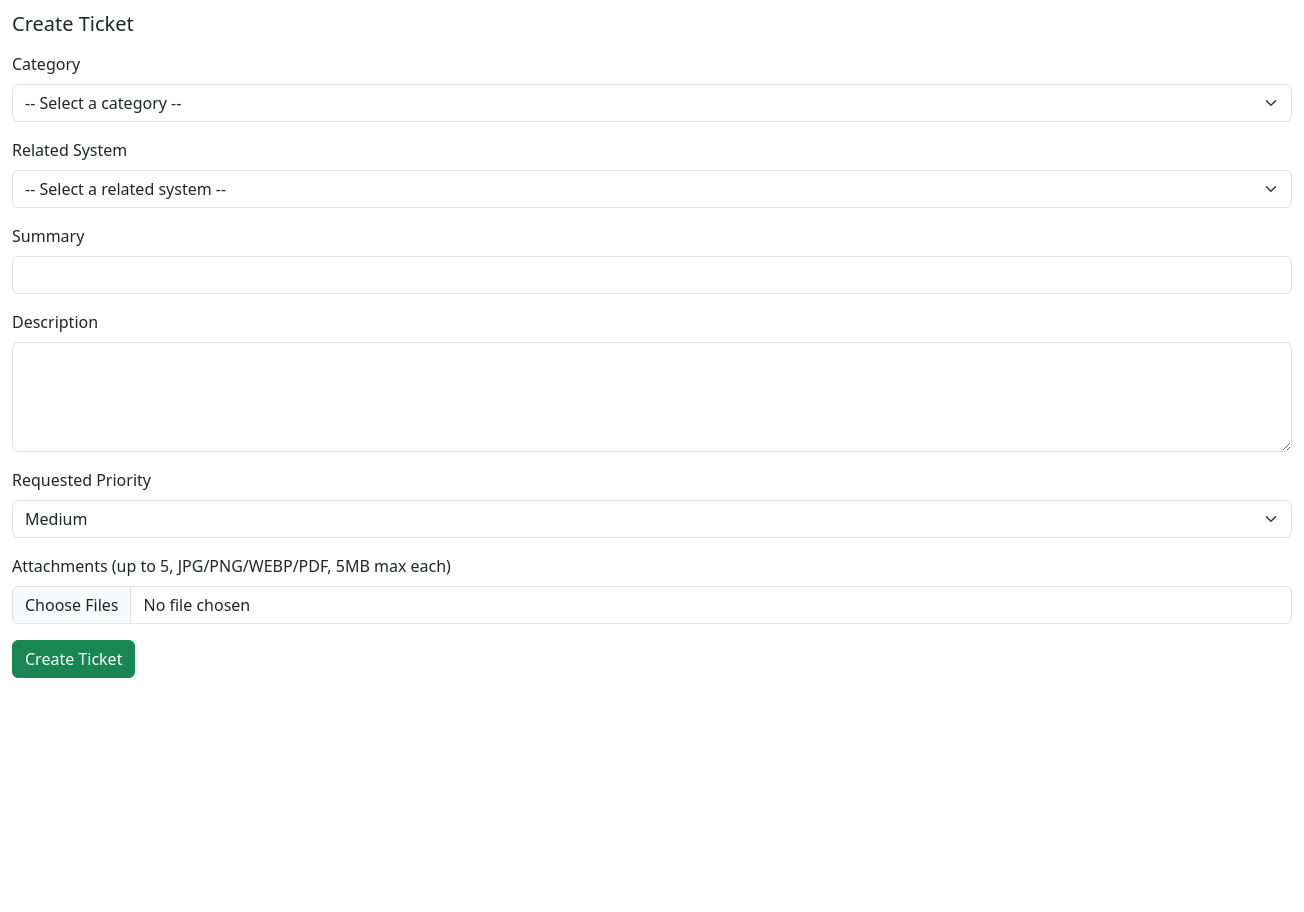
CreateTicket › shows a safe error message and keeps form values when the API is down
Select "Hardware" in the dropdown with test id "create-ticket-category". click: point(652, 103)
box: [12,84,1292,122]
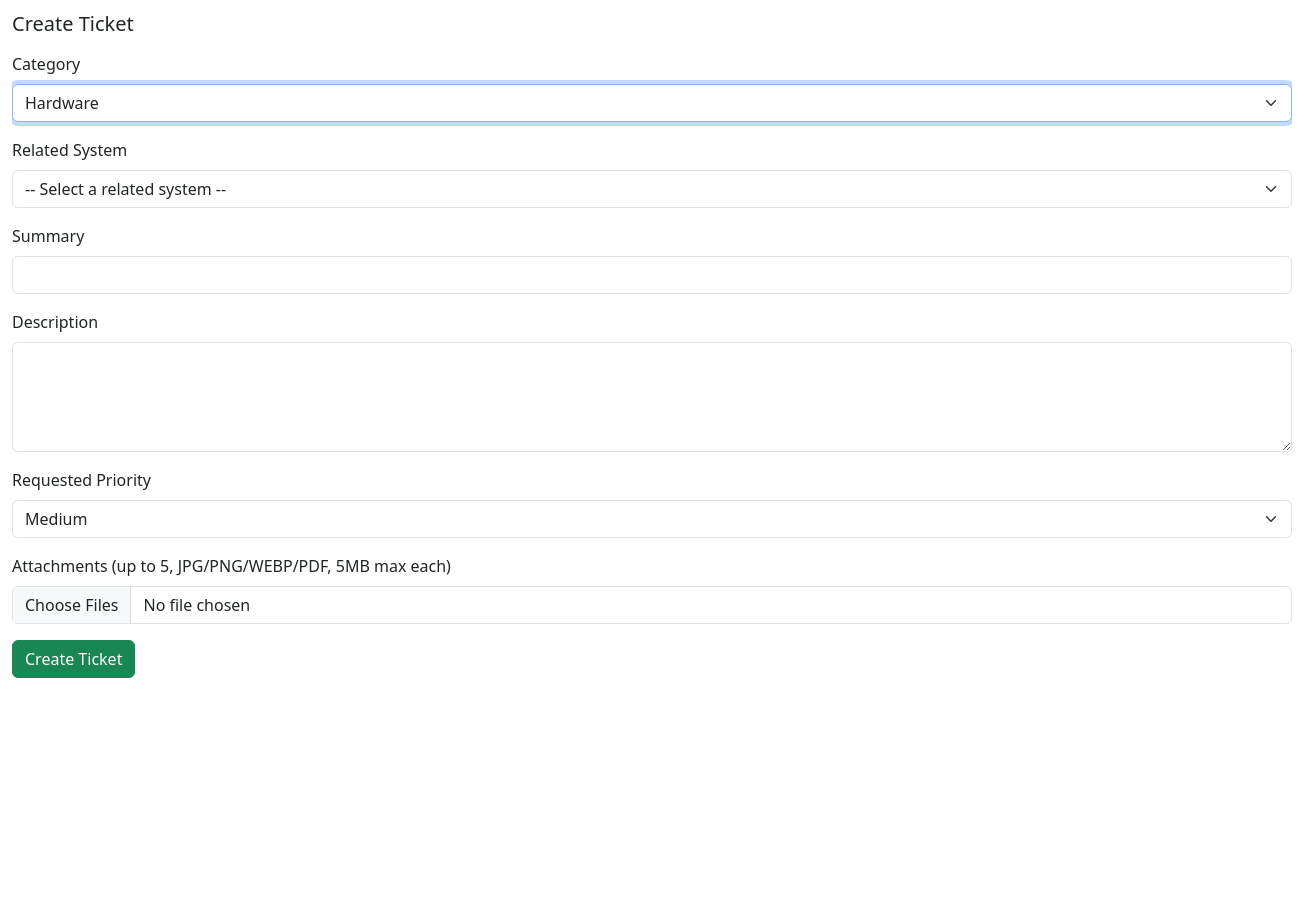
Select "Corporate Laptop" in the dropdown with test id "create-ticket-related-system". click: point(652, 189)
box: [12,170,1292,208]
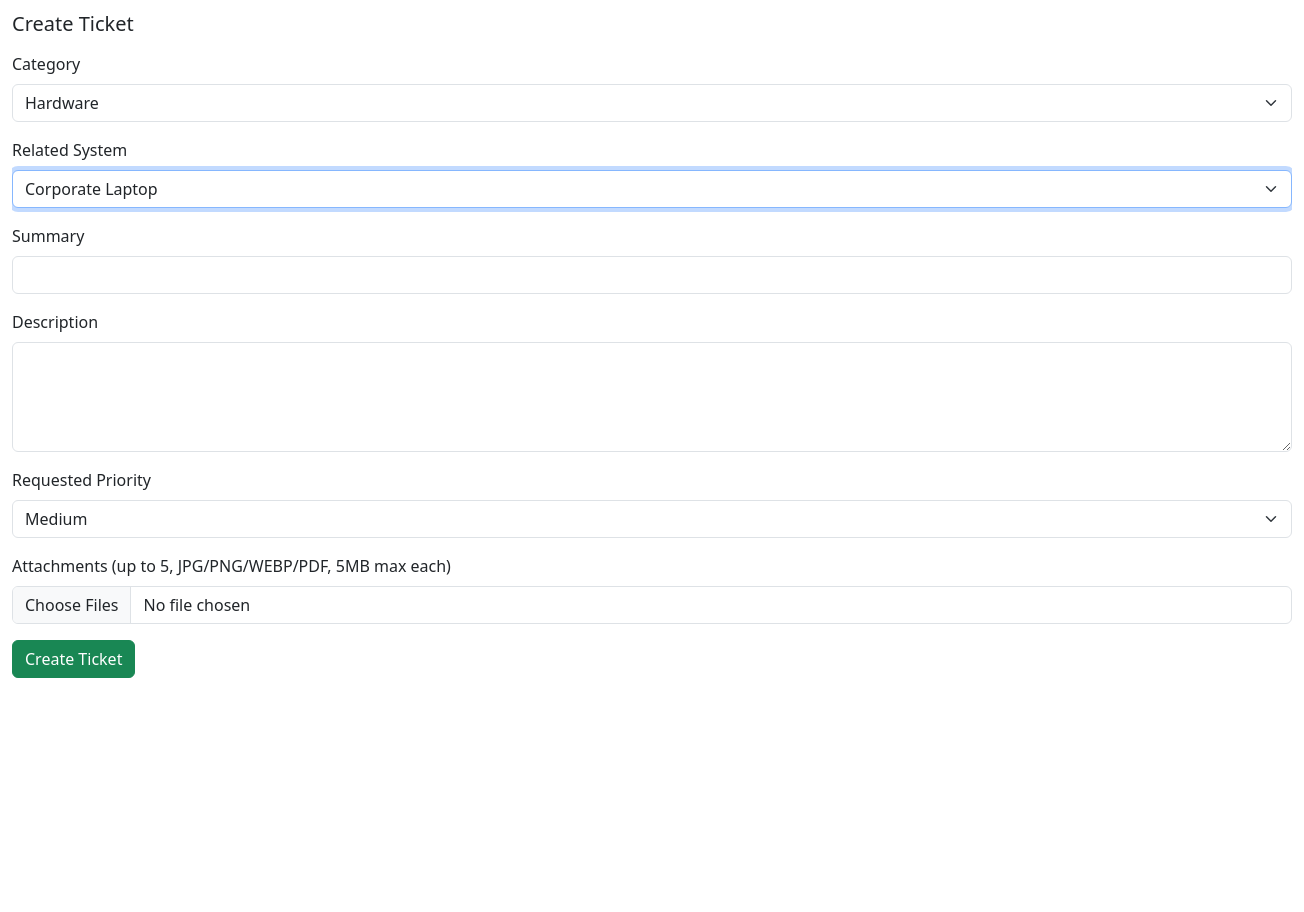
Type "Laptop won't turn on" into the field with test id "create-ticket-summary". click: point(652, 275)
box: [12,256,1292,294]
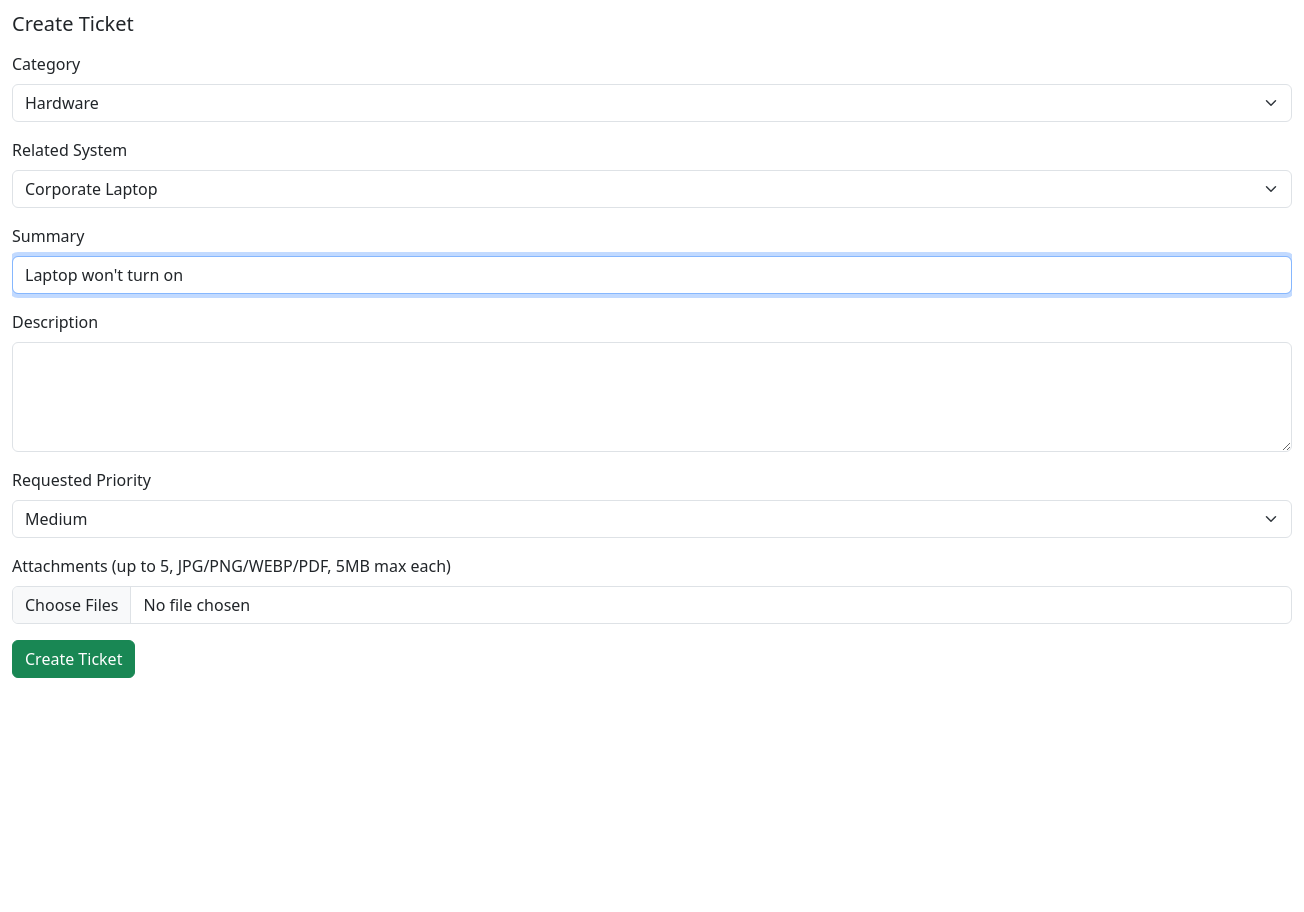
Type "A description long enough to pass validation." into the text box with test id "create-ticket-description". click: point(652, 397)
box: [12,342,1292,452]
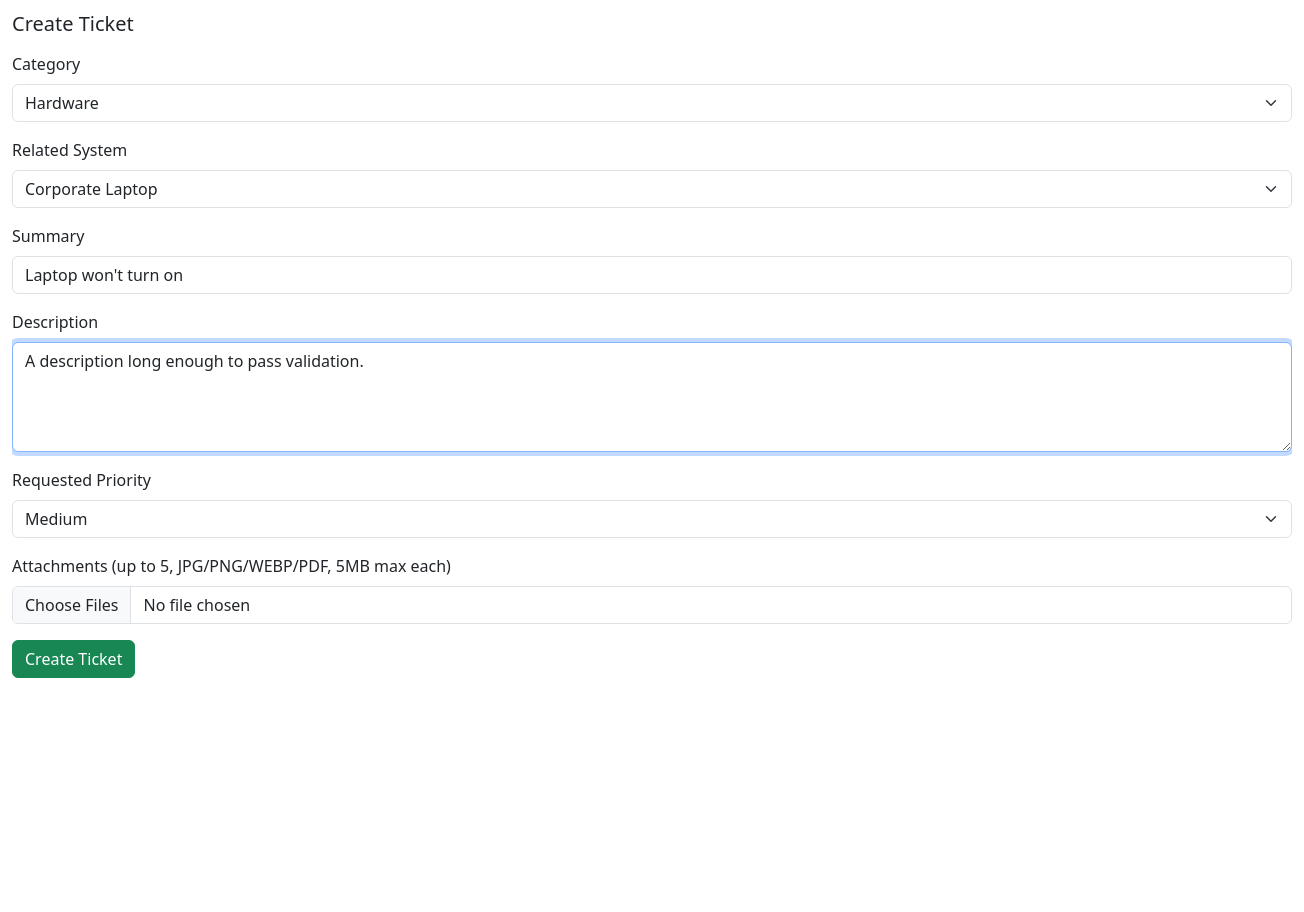
Click the button with test id "create-ticket-submit". click: point(74, 659)
box: [12,640,135,678]
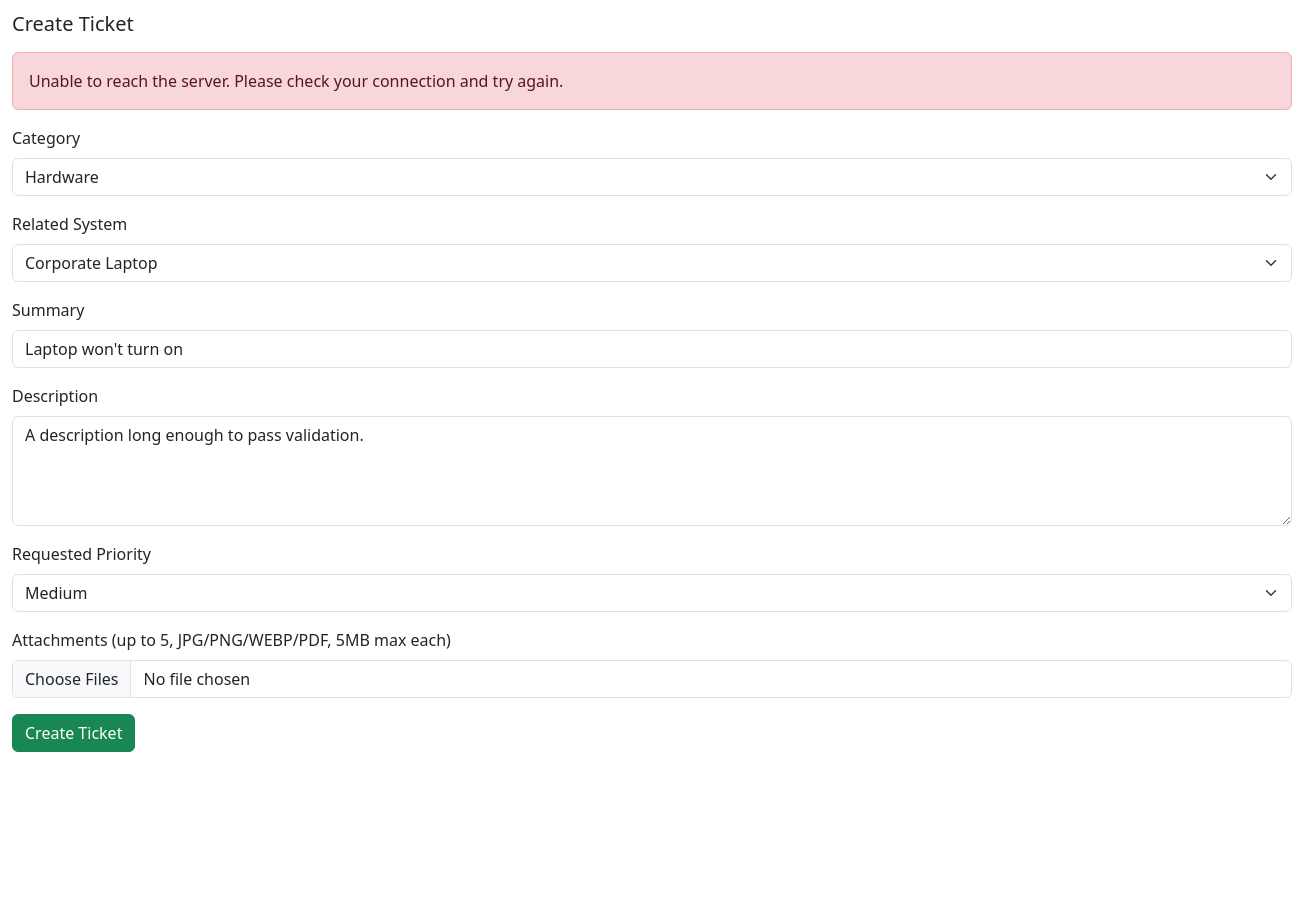
Result: the text with test id "create-ticket-error" is shown at [12,52,1292,110]
